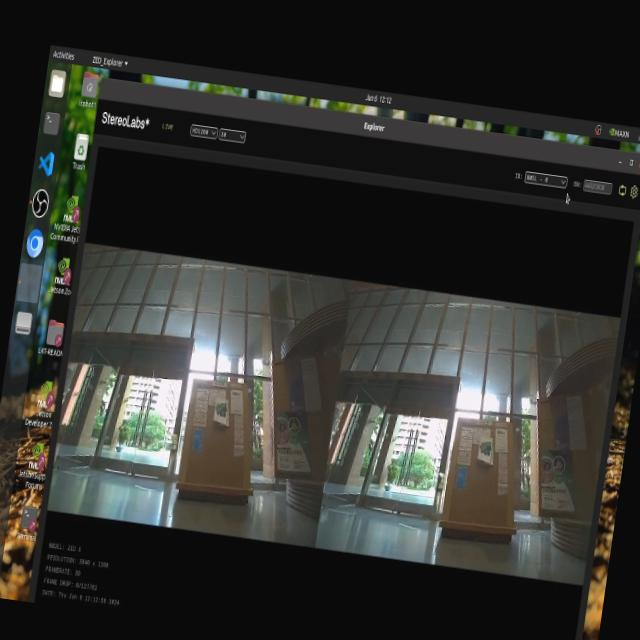green: (473, 438, 502, 472), (212, 398, 226, 420)
